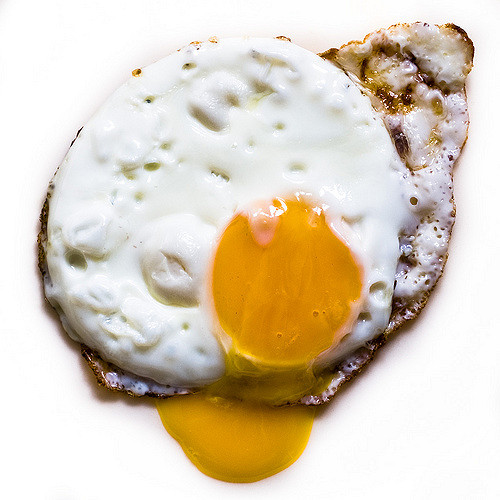fried egg: (30, 20, 500, 488)
